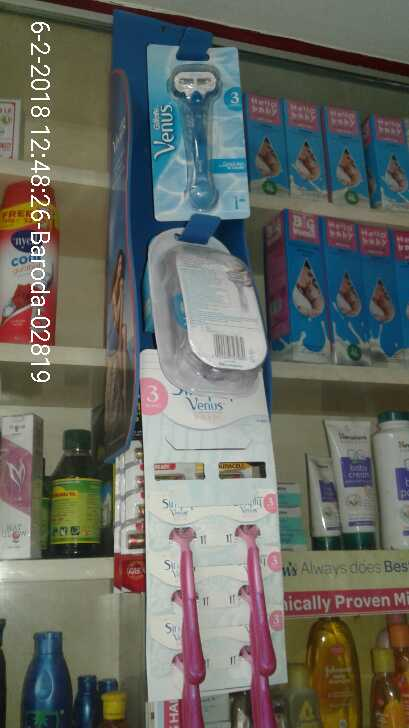venus: (146, 44, 249, 222)
